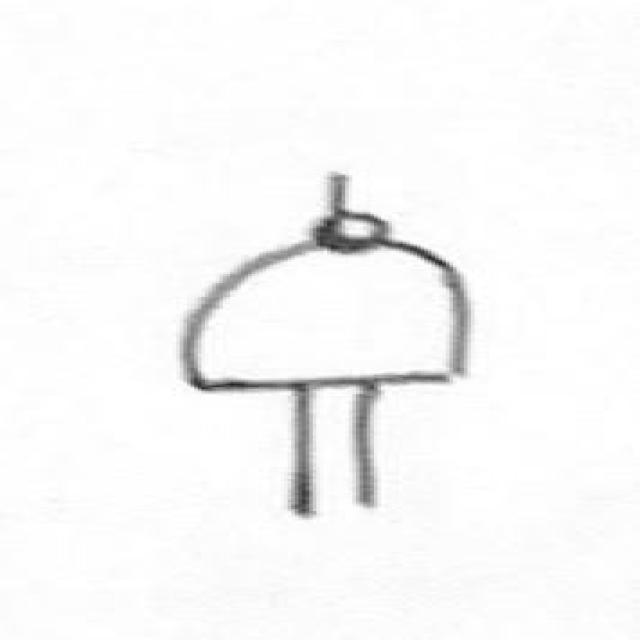NAND: (175, 210, 511, 414)
